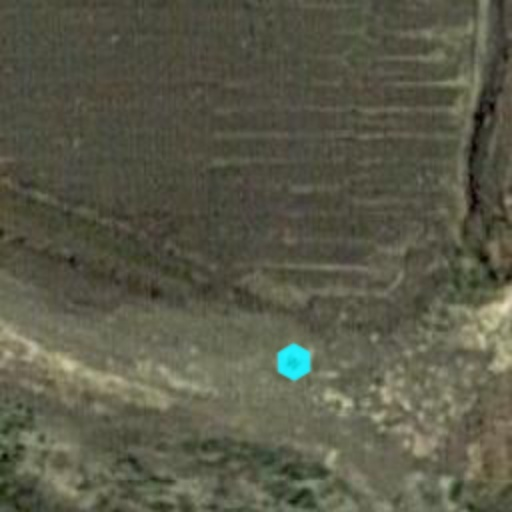hexagon: (268, 336, 320, 388)
